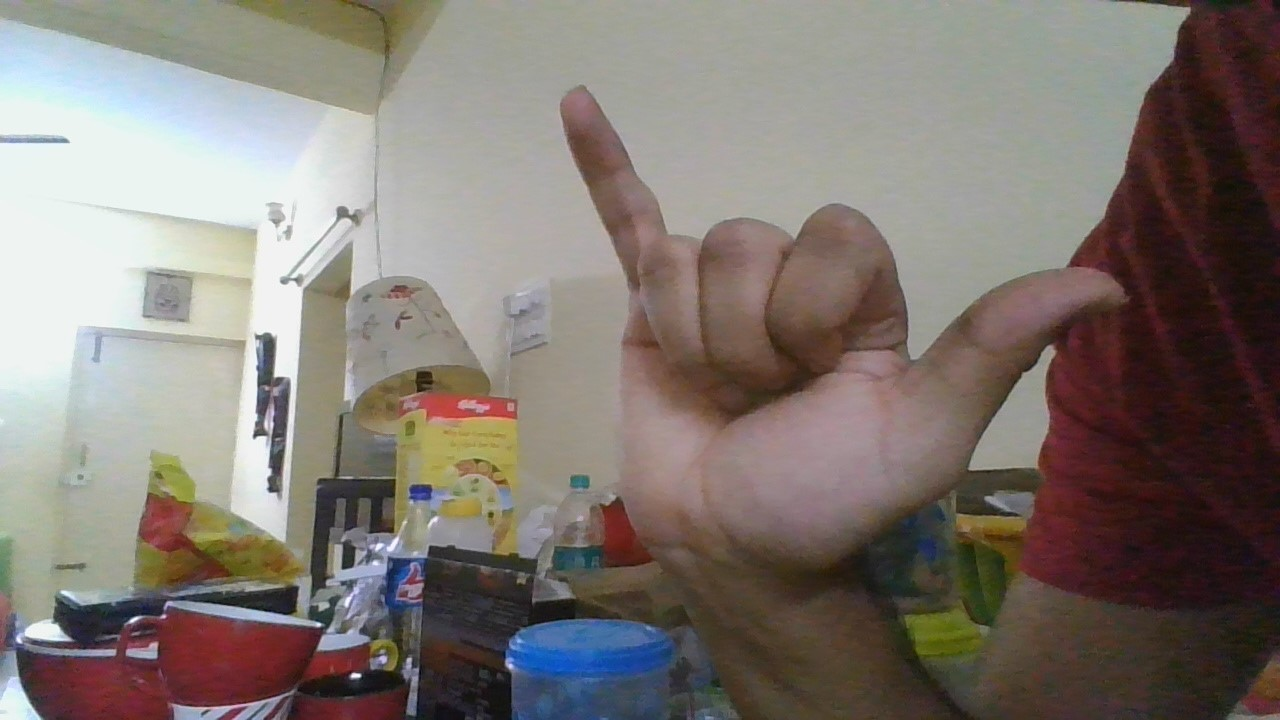y: (554, 78, 1141, 579)
